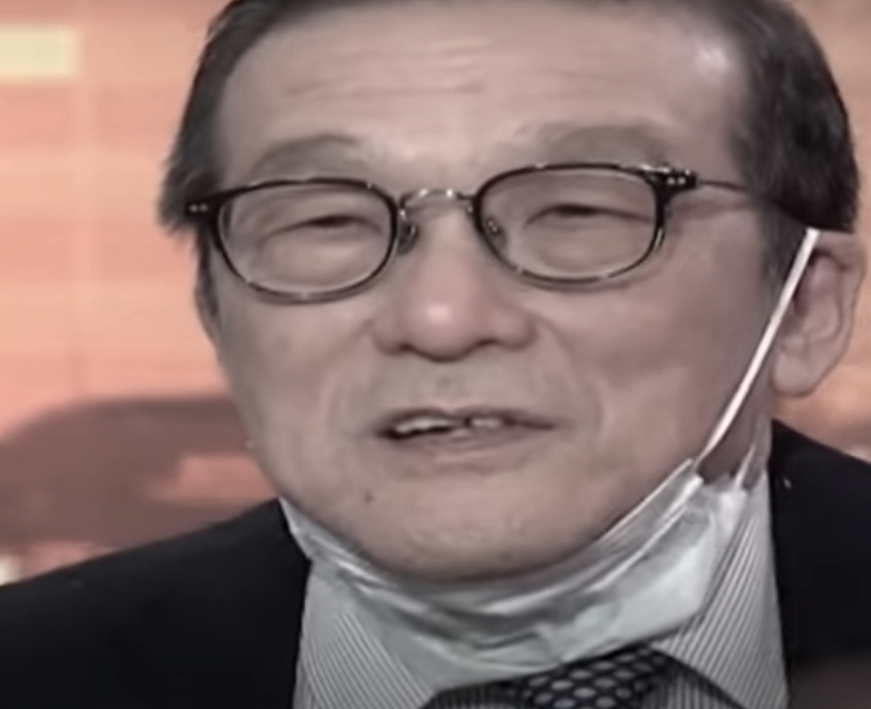mask_weared_incorrect: (162, 6, 871, 695)
